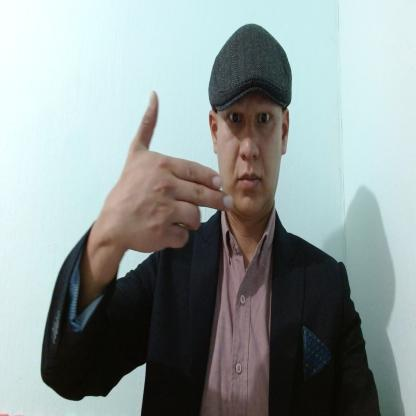H: (116, 91, 234, 251)
